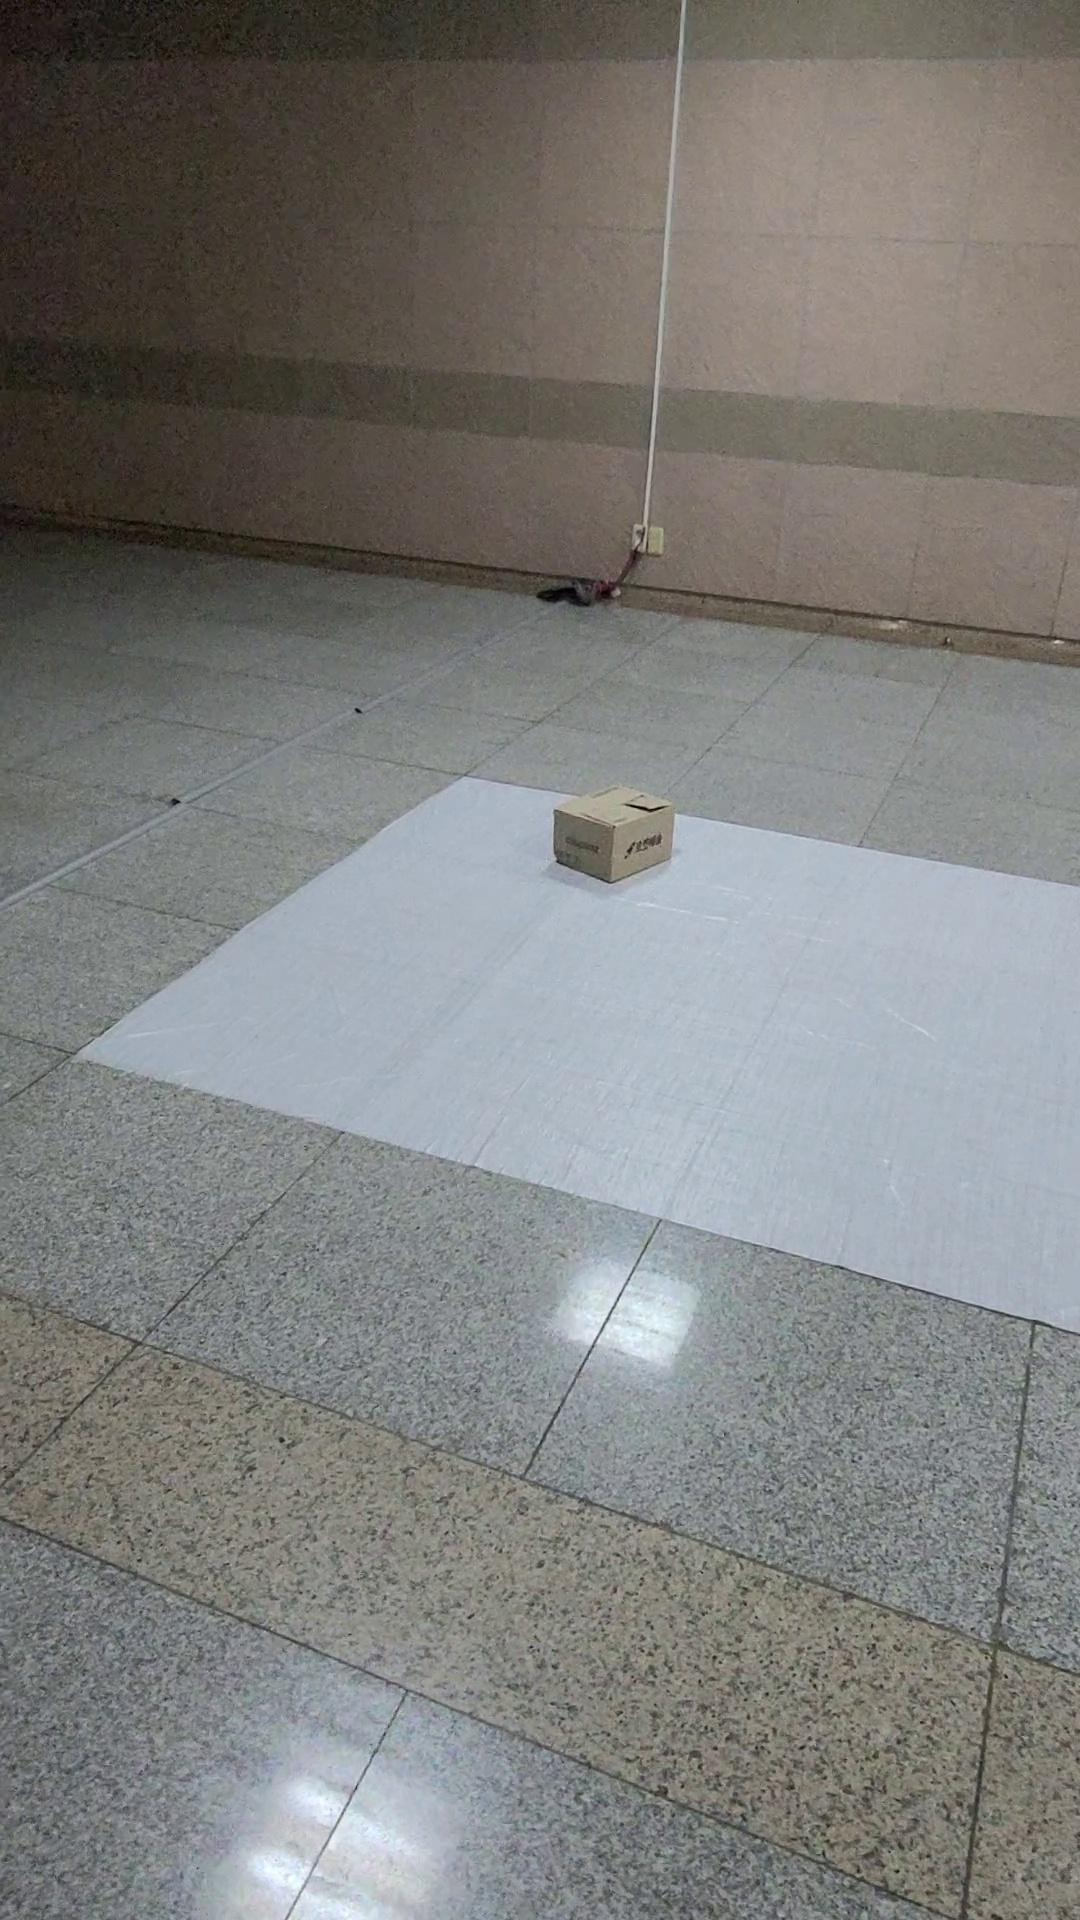Box: (516, 760, 700, 905)
